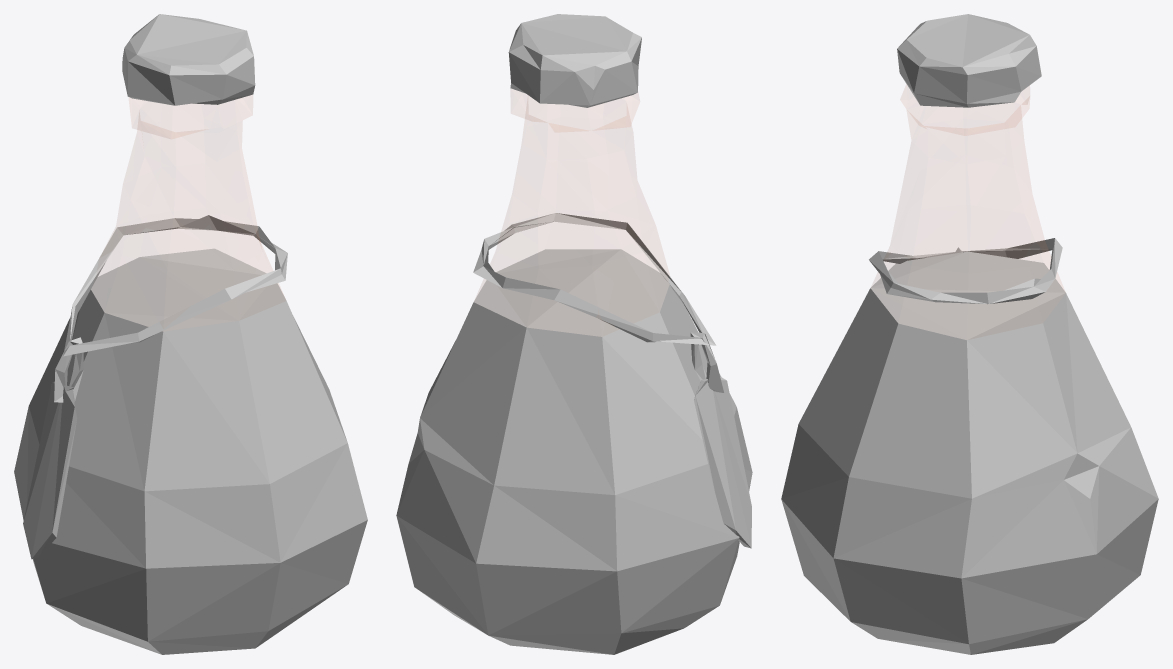
Rendered from SFI_Jar_017.fbx.
3 views of the same model, side by side, from view 1: azimuth 30°, elevation 25°; view 2: azimuth 150°, elevation 25°; view 3: azimuth 270°, elevation 25° (orthographic).
Visible parts, largest first — view 1: SFI_Jar_017; view 2: SFI_Jar_017; view 3: SFI_Jar_017.
Part boxes in pixels (bbox=[...]): SFI_Jar_017: bbox=[14, 14, 367, 654]; SFI_Jar_017: bbox=[396, 14, 752, 654]; SFI_Jar_017: bbox=[781, 14, 1158, 654].
Size of the model in its own units: 14.27 by 23.69 by 14.11.
